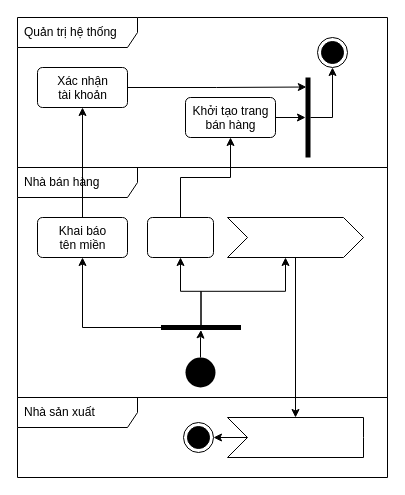
This 405x495 diagram has some shape labels left out. Each missing label, with the centre of its shape:
"Kí hợp đồng" goes at (295,437).
"Tạo cửa hàng" goes at (180,237).
"Tạo hợp đồng" goes at (295,237).
